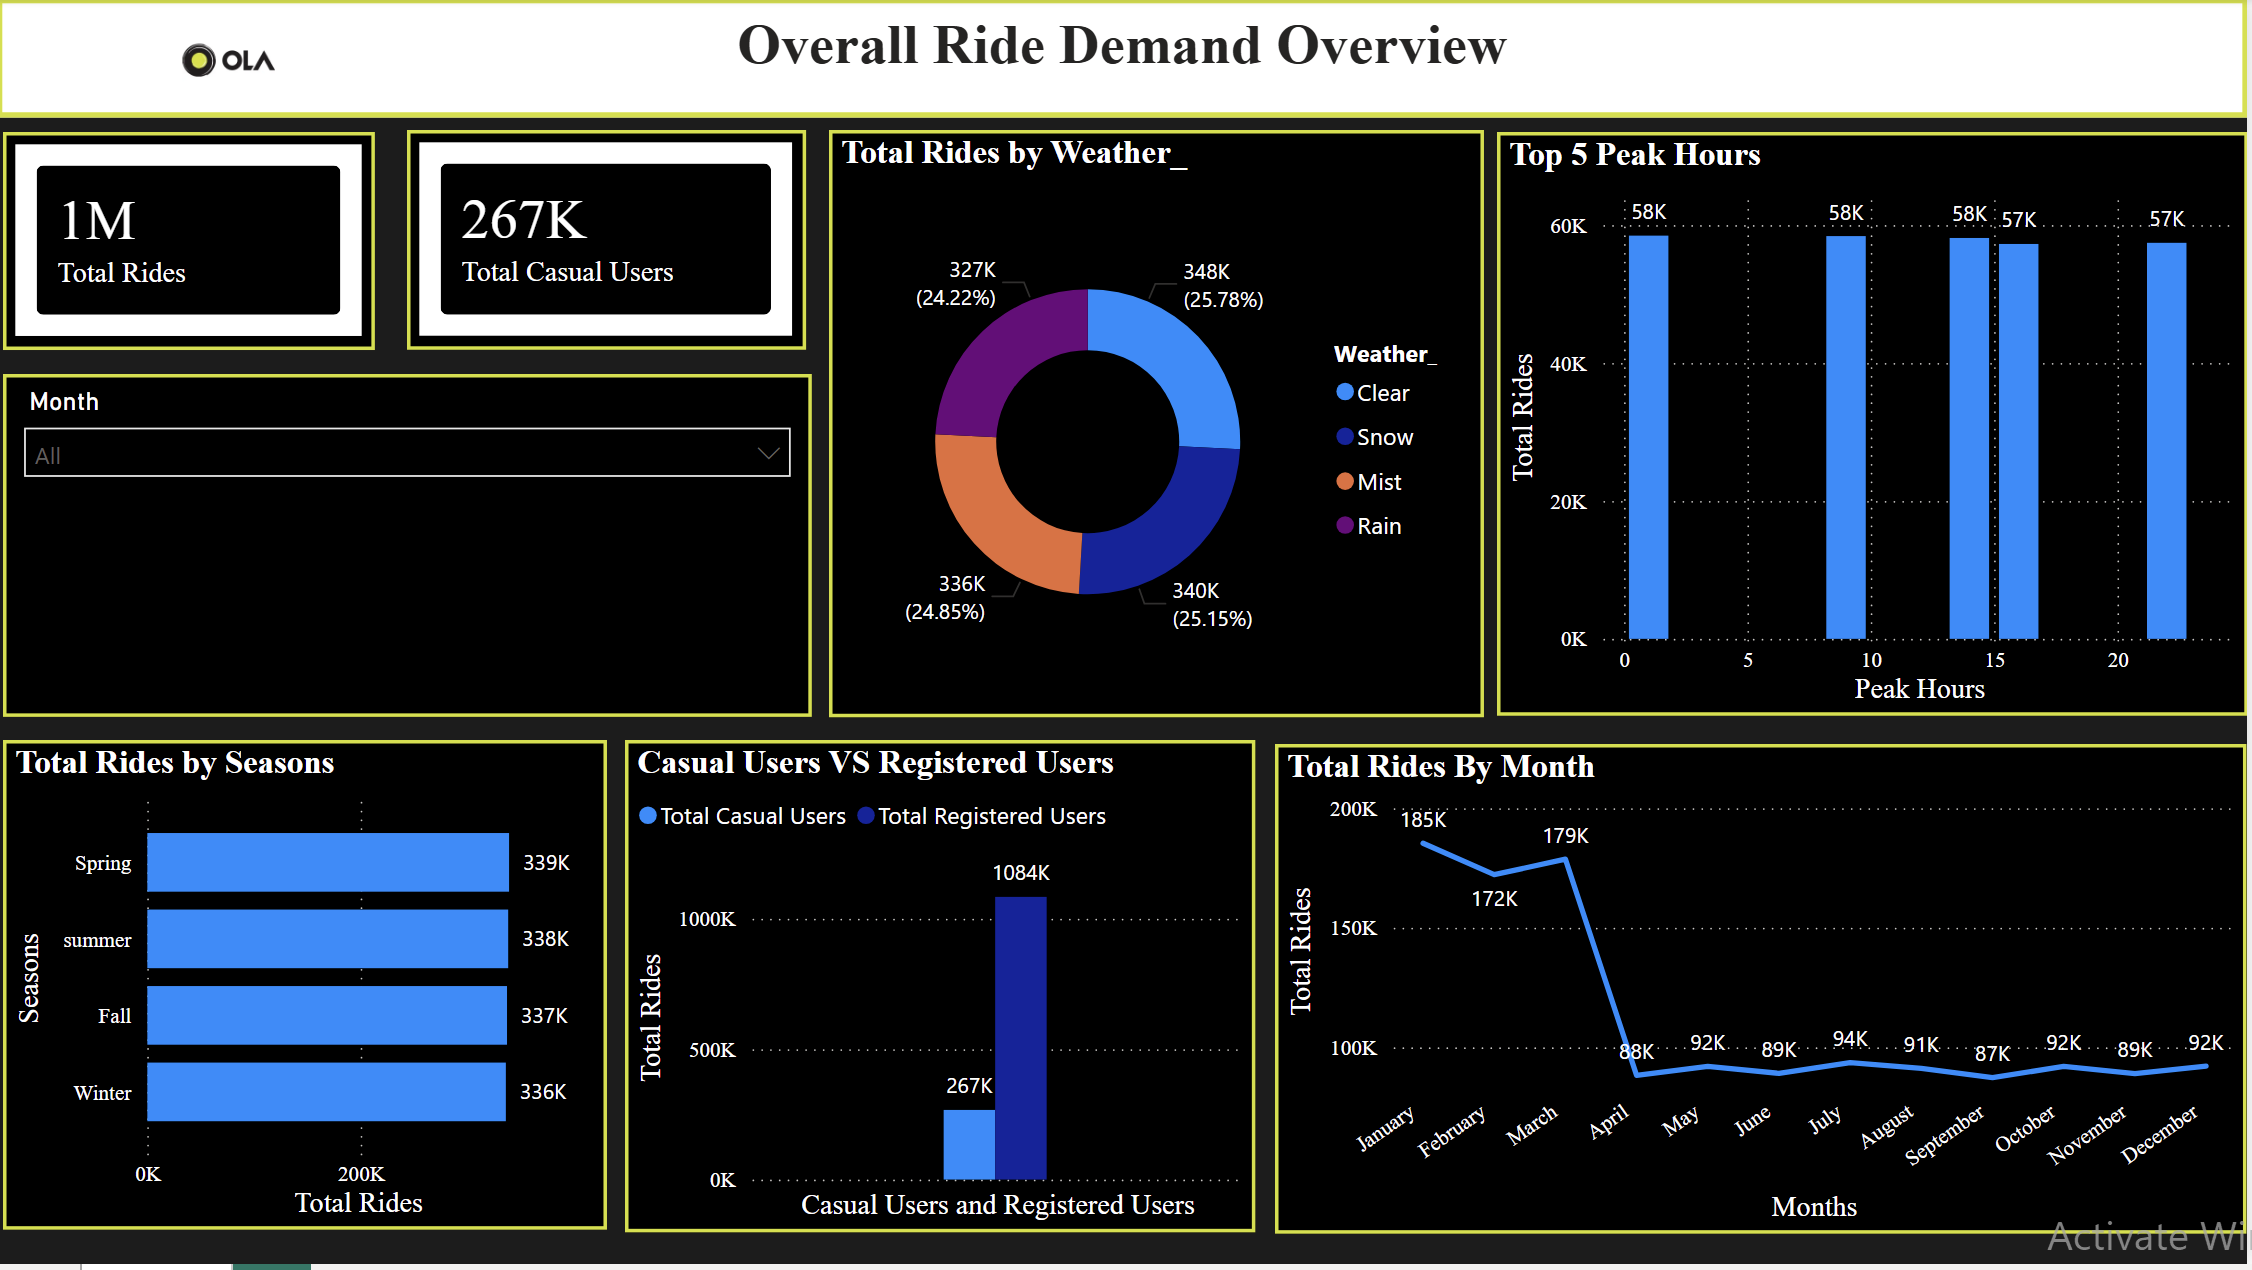

What the dashboard file says about the page in this screenshot:
{"tool":"powerbi","page":{"name":"Page 1","canvas":[1280,720],"ordinal":0},"visuals":[{"type":"textbox","box":[0,0,1280,67.8],"z":0},{"type":"lineChart","title":"Total Rides By Month","fields":{"Y":["Sum(ola.count)"],"Category":["ola.datetime.Variation.Date Hierarchy.Year","ola.datetime.Variation.Date Hierarchy.Quarter","ola.datetime.Variation.Date Hierarchy.Month","ola.datetime.Variation.Date Hierarchy.Day"]},"box":[727.3,424.1,552.7,278.7],"z":1000},{"type":"clusteredColumnChart","title":"Casual Users VS Registered Users","fields":{"Y":["measuresss.Total Casual Users","measuresss.Total Registered Users"]},"box":[357.2,422,358.3,279.8],"z":2000},{"type":"cardVisual","fields":{"Data":["measuresss.Total Casual Users"]},"box":[233.3,75.2,226.9,124.9],"z":3000},{"type":"cardVisual","fields":{"Data":["measuresss.Total Rides"]},"box":[3.4,76.2,211.6,124],"z":4000},{"type":"clusteredBarChart","fields":{"Y":["measuresss.Total Rides"],"Category":["ola.Seasons"]},"box":[3.4,422,343.5,278.7],"z":5000},{"type":"donutChart","fields":{"Y":["measuresss.Total Rides"],"Category":["ola.Weather_"]},"box":[473,75.2,372.3,334],"z":6000},{"type":"clusteredColumnChart","title":"Top 5 Peak Hours","fields":{"Y":["measuresss.Total Rides"],"Category":["ola.Peak Hours"]},"box":[852.8,76.6,427.2,332.2],"z":7000},{"type":"slicer","fields":{"Values":["ola.datetime.Variation.Date Hierarchy.Month"]},"box":[3.8,214.2,460.2,195.1],"z":8000},{"type":"image","box":[12.7,8.9,238.4,52.3],"z":9000}]}

Visuals, with their boxes in screenshot pixels (x1, y1, x2, y2), scaled from the page's 1280x720 canvas onto the 2252x1270 screenshot:
textbox: [x1=0, y1=0, x2=2251, y2=120]
"Total Rides By Month" lineChart: [x1=1280, y1=748, x2=2251, y2=1240]
"Casual Users VS Registered Users" clusteredColumnChart: [x1=628, y1=744, x2=1259, y2=1238]
cardVisual - measuresss.Total Casual Users: [x1=410, y1=133, x2=810, y2=353]
cardVisual - measuresss.Total Rides: [x1=6, y1=134, x2=378, y2=353]
clusteredBarChart - measuresss.Total Rides x ola.Seasons: [x1=6, y1=744, x2=610, y2=1236]
donutChart - measuresss.Total Rides x ola.Weather_: [x1=832, y1=133, x2=1487, y2=722]
"Top 5 Peak Hours" clusteredColumnChart: [x1=1500, y1=135, x2=2251, y2=721]
slicer - ola.datetime.Variation.Date Hierarchy.Month: [x1=7, y1=378, x2=816, y2=722]
image: [x1=22, y1=16, x2=442, y2=108]
